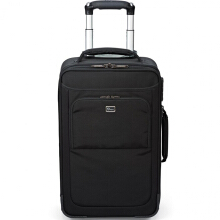luggage: (58, 0, 169, 219)
